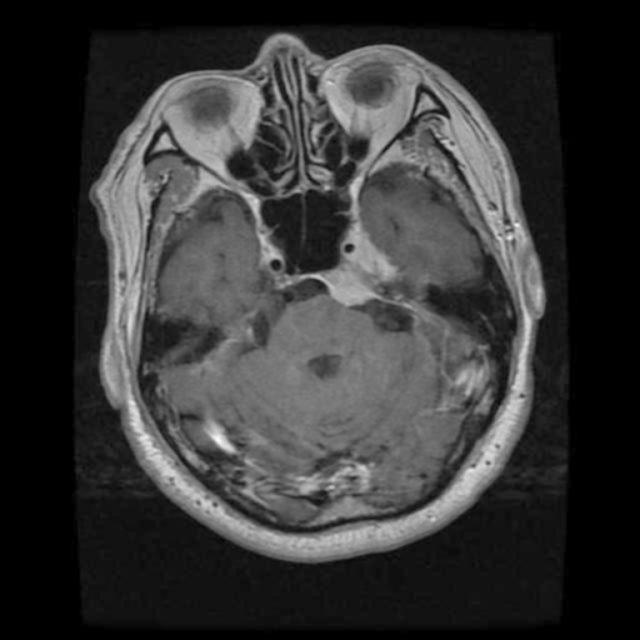meningioma tumor: (338, 224, 408, 320)
